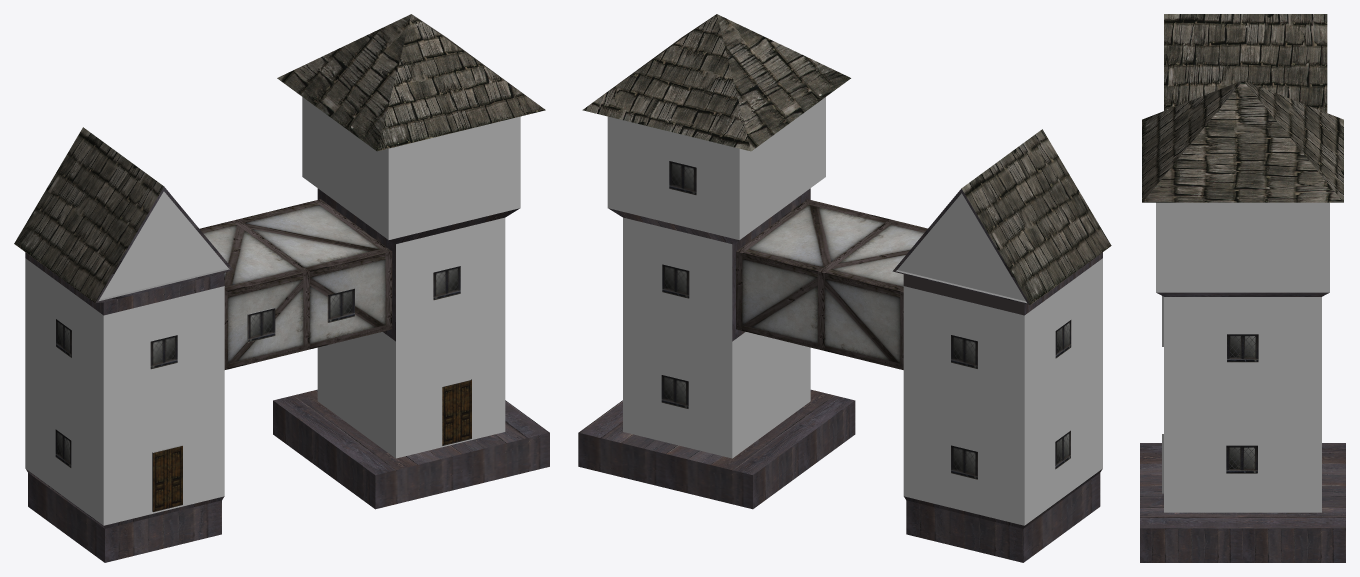
File: Obj_BridgeHouse.FBX
3 renders of one model, left to right at view 1: azimuth 30°, elevation 25°; view 2: azimuth 150°, elevation 25°; view 3: azimuth 270°, elevation 25°, orthographic.
Visible parts, largest first — view 1: Box001; view 2: Box001; view 3: Box001.
Part boxes in pixels (bbox=[...]): Box001: bbox=[14, 14, 549, 562]; Box001: bbox=[578, 14, 1111, 562]; Box001: bbox=[1140, 14, 1345, 562].
Size of the model in its own units: 47.64 by 44.88 by 19.05.
